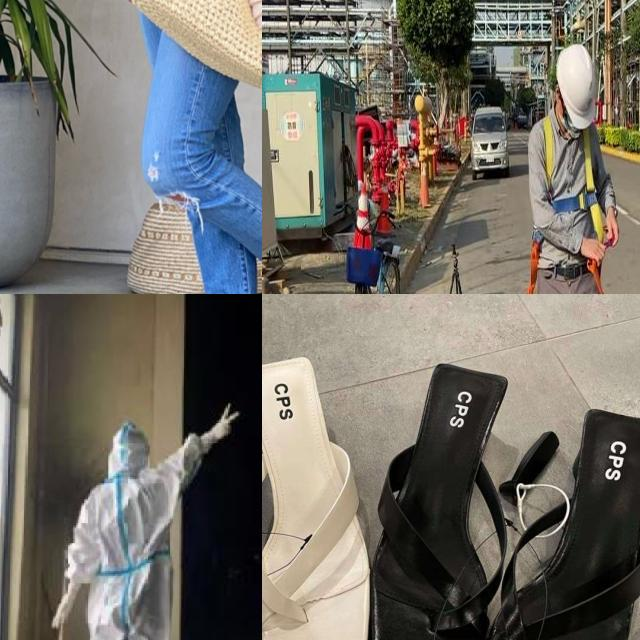Harness: (543, 117, 604, 242), (526, 236, 541, 294), (587, 260, 607, 294)
Sandals: (361, 335, 640, 640), (262, 350, 381, 640)
hand_glove: (202, 401, 242, 448), (49, 585, 74, 630)
person: (48, 368, 256, 640)
